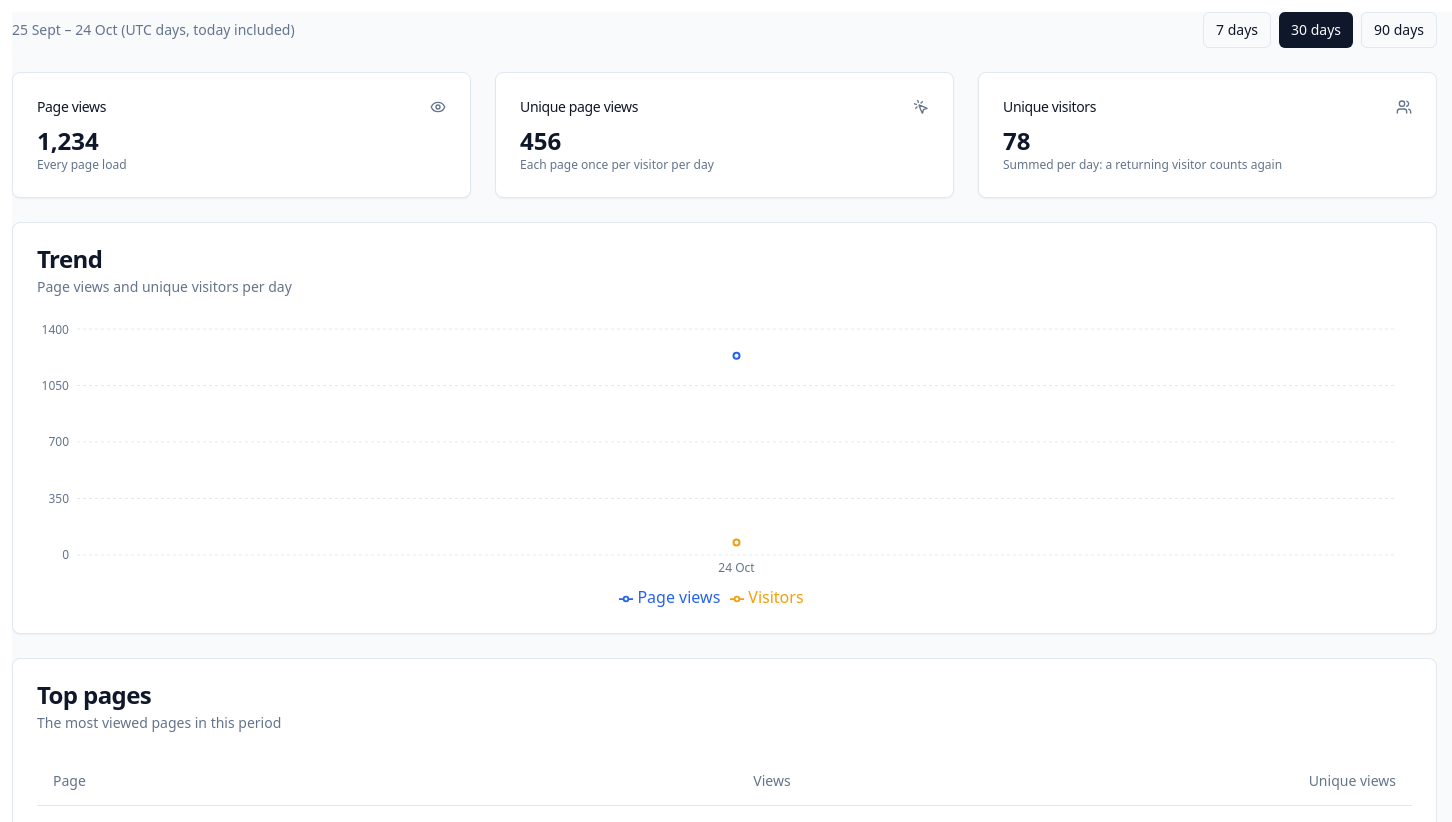
Scenario: StatisticsPanel › reloads for another period
Check: the text "1,234" is shown, box [37,124,99,157]
Step 1. Click the button "7 days" → (1237, 30), box [1203,12,1271,48]
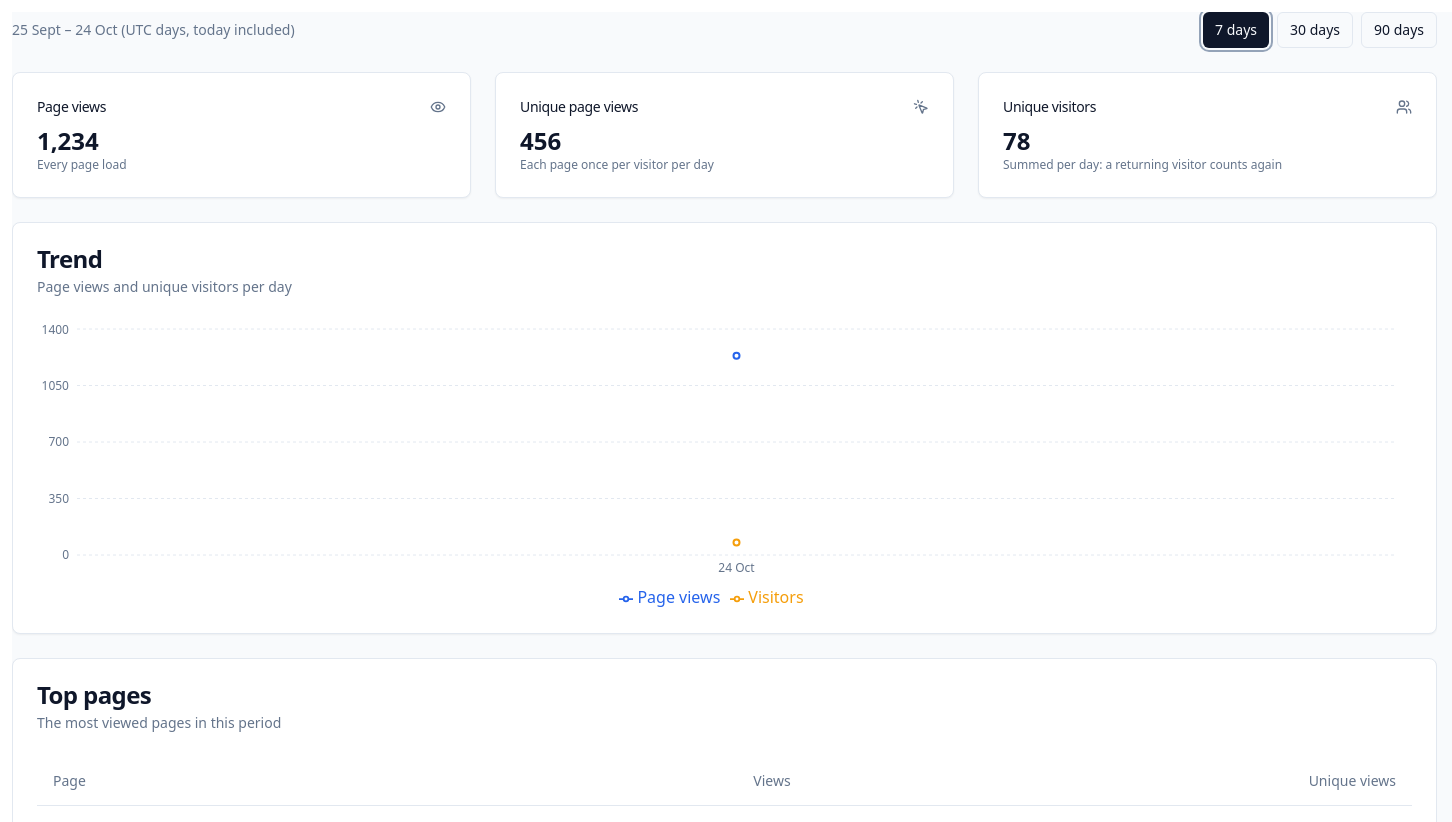
Check: the button "7 days" is pressed, box [1203,12,1269,48]
